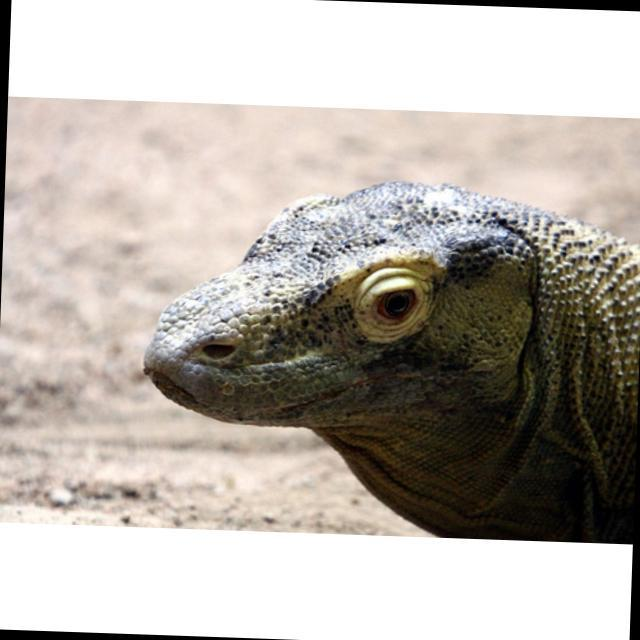KomodoDragon: (141, 170, 640, 541)
